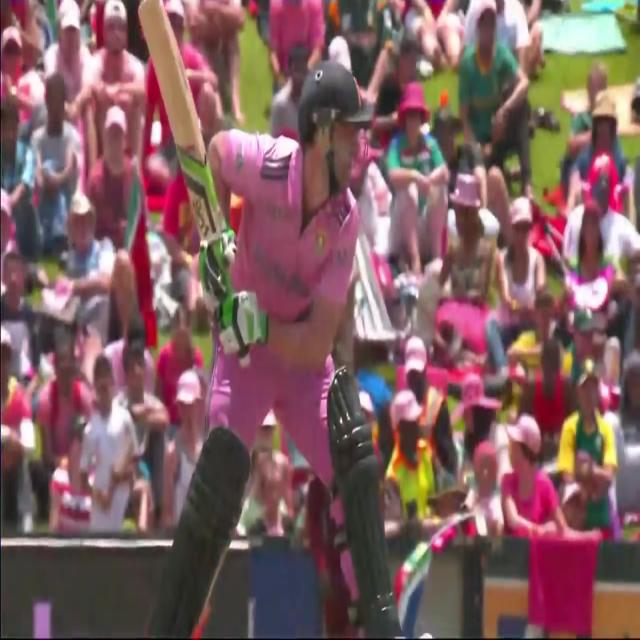Ball: (158, 65, 414, 637)
